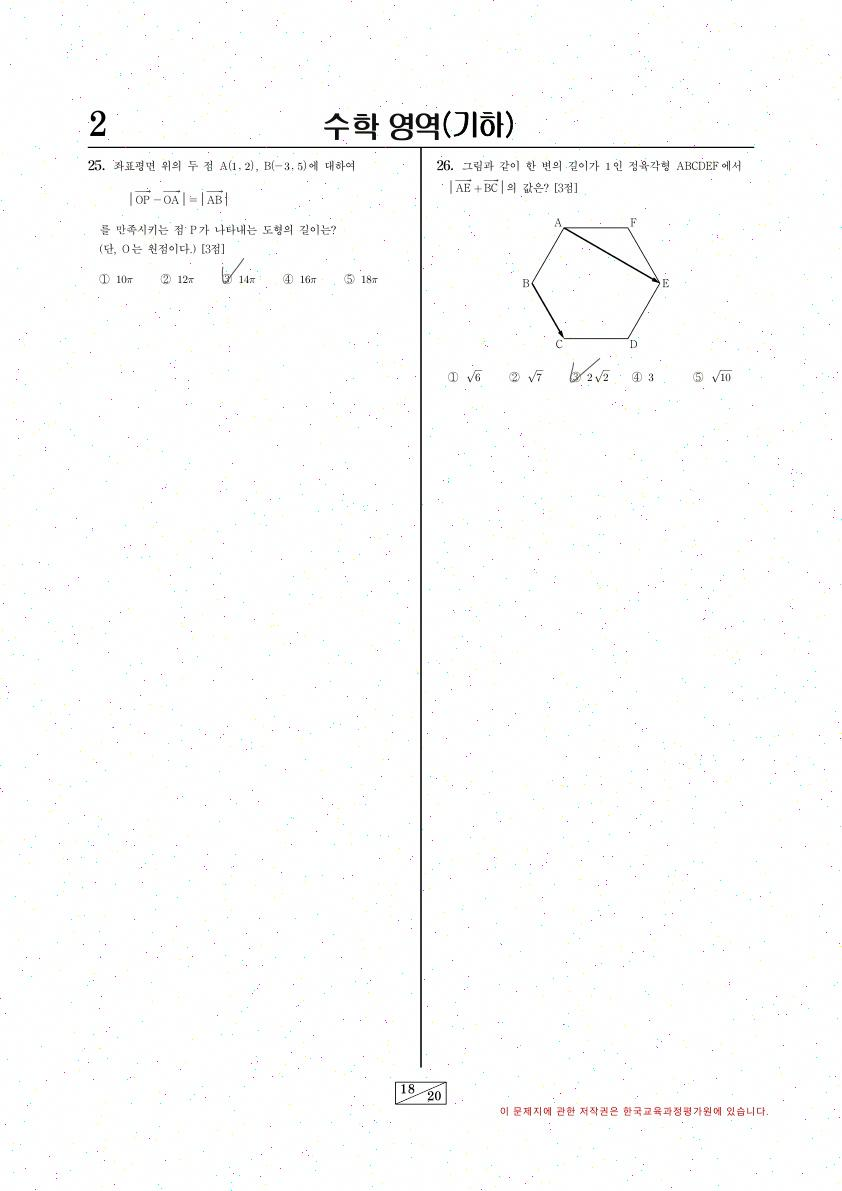question: (421, 149, 758, 405), (76, 149, 390, 311)
